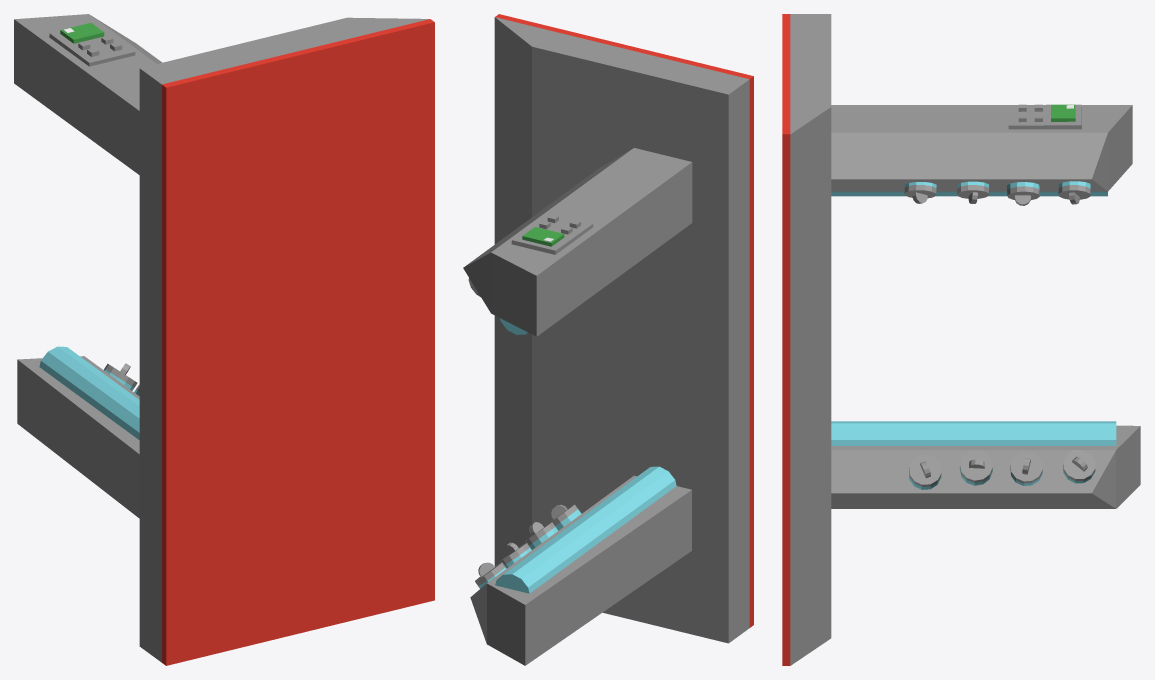
The picture shows the model from 3 angles, left to right: view 1: azimuth 30°, elevation 25°; view 2: azimuth 150°, elevation 25°; view 3: azimuth 270°, elevation 25°; orthographic projection. The views are drawn at different scales.
Visible parts, largest first — view 1: imagetostl_mesh1, imagetostl_mesh0, imagetostl_mesh3, imagetostl_mesh5, imagetostl_mesh20, imagetostl_mesh31, imagetostl_mesh2; view 2: imagetostl_mesh0, imagetostl_mesh3, imagetostl_mesh2, imagetostl_mesh5, imagetostl_mesh20, imagetostl_mesh1, imagetostl_mesh31, imagetostl_mesh33; view 3: imagetostl_mesh3, imagetostl_mesh2, imagetostl_mesh5, imagetostl_mesh20, imagetostl_mesh1, imagetostl_mesh0, imagetostl_mesh31, imagetostl_mesh30, imagetostl_mesh15, imagetostl_mesh4, imagetostl_mesh13, imagetostl_mesh12.
Part boxes in pixels (<box>): imagetostl_mesh1: <box>162,19,434,665</box>; imagetostl_mesh0: <box>139,18,368,662</box>; imagetostl_mesh3: <box>14,14,161,174</box>; imagetostl_mesh5: <box>17,356,139,518</box>; imagetostl_mesh20: <box>39,346,139,439</box>; imagetostl_mesh31: <box>49,22,135,66</box>; imagetostl_mesh2: <box>347,17,429,33</box>; imagetostl_mesh0: <box>532,31,749,643</box>; imagetostl_mesh3: <box>463,148,692,336</box>; imagetostl_mesh2: <box>494,17,552,565</box>; imagetostl_mesh5: <box>470,475,691,665</box>; imagetostl_mesh20: <box>495,466,676,593</box>; imagetostl_mesh1: <box>495,14,753,627</box>; imagetostl_mesh31: <box>511,213,593,254</box>; imagetostl_mesh33: <box>522,227,564,246</box>; imagetostl_mesh3: <box>831,105,1132,191</box>; imagetostl_mesh2: <box>790,107,831,665</box>; imagetostl_mesh5: <box>831,425,1140,508</box>; imagetostl_mesh20: <box>831,421,1116,445</box>; imagetostl_mesh1: <box>782,14,790,665</box>; imagetostl_mesh0: <box>790,14,831,106</box>; imagetostl_mesh31: <box>1008,104,1081,129</box>; imagetostl_mesh30: <box>831,191,1107,196</box>; imagetostl_mesh15: <box>1010,452,1042,483</box>; imagetostl_mesh4: <box>909,455,941,486</box>; imagetostl_mesh13: <box>1063,450,1095,481</box>; imagetostl_mesh12: <box>960,450,992,482</box>.
Bounding box in the file's own units: 35 × 72 × 44.
